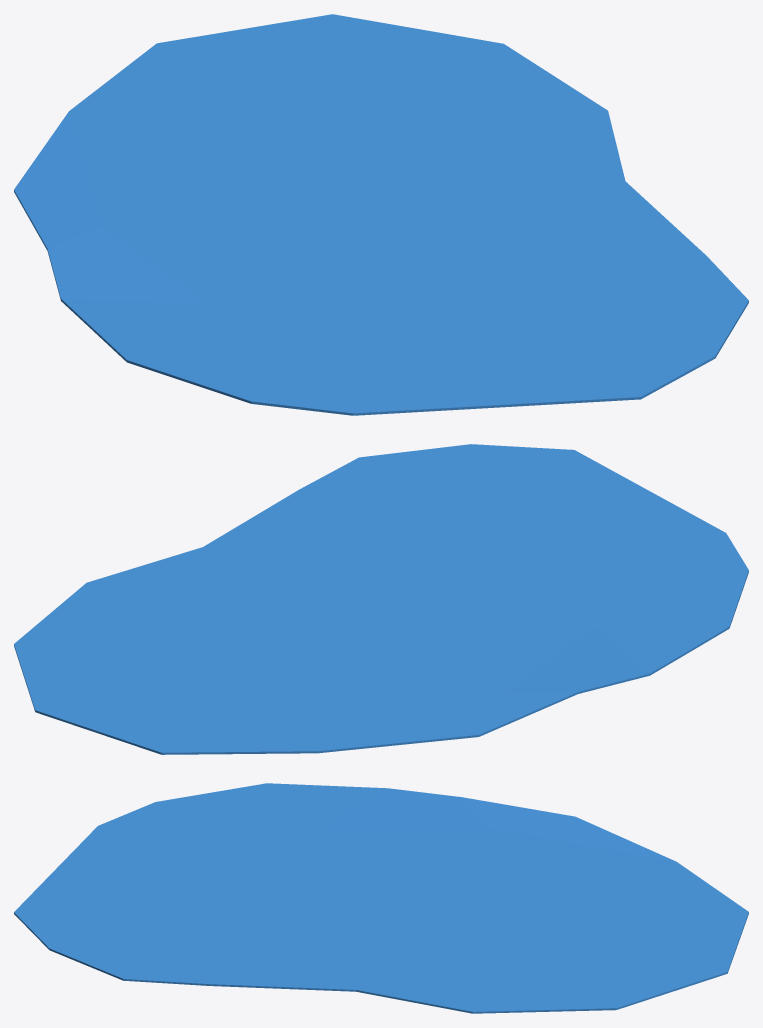
File: The pond lake.fbx
3 renders of one model, top to bottom at view 1: azimuth 30°, elevation 25°; view 2: azimuth 150°, elevation 25°; view 3: azimuth 270°, elevation 25°, orthographic. The views are drawn at different scales.
Parts seen in each view (by area): view 1: Plane; view 2: Plane; view 3: Plane.
Part boxes in pixels (box(x1,y1,x2,y2)): Plane: box(14, 14, 748, 415); Plane: box(14, 444, 748, 754); Plane: box(14, 783, 748, 1013).
Bounding box in the file's own units: 440 × 5.42 × 598.
